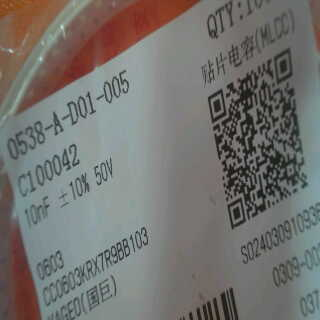10nF: (23, 194, 53, 226)
